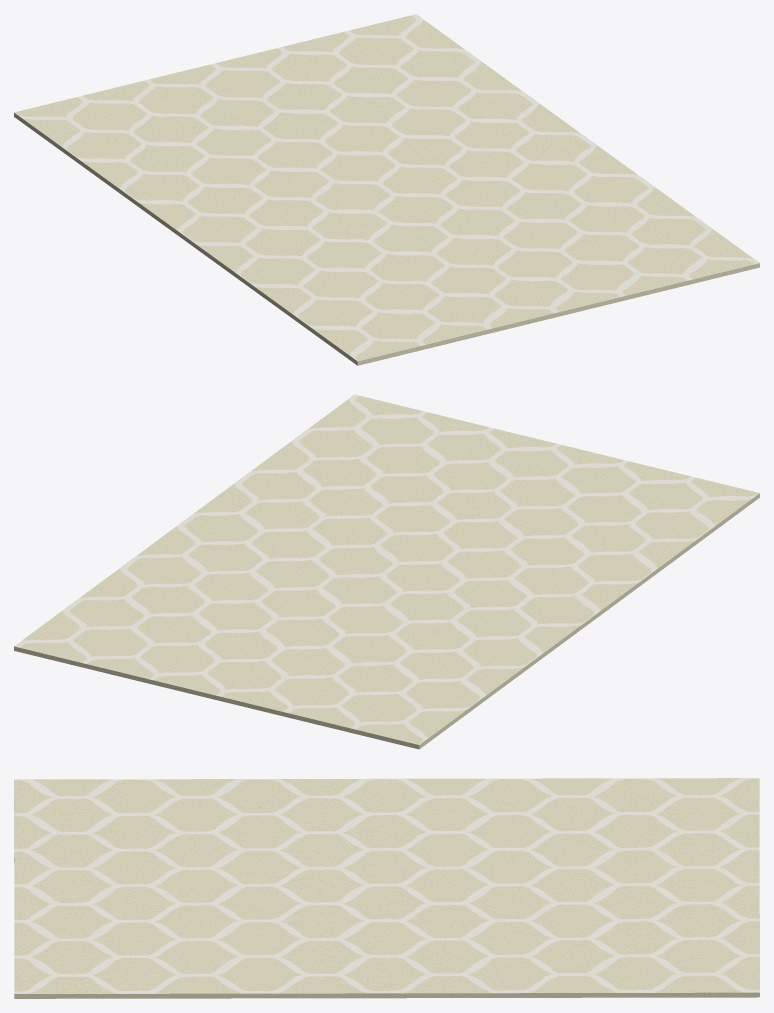
Rendered from frl_apartment_rug_01.glb.
3 renders of one model, top to bottom at view 1: azimuth 30°, elevation 25°; view 2: azimuth 150°, elevation 25°; view 3: azimuth 270°, elevation 25°, orthographic. The views are drawn at different scales.
Parts seen in each view (by area): view 1: frl_apartment_rug_01; view 2: frl_apartment_rug_01; view 3: frl_apartment_rug_01.
Part boxes in pixels (x1=…): frl_apartment_rug_01: x1=14, y1=14, x2=759, y2=365; frl_apartment_rug_01: x1=14, y1=394, x2=759, y2=749; frl_apartment_rug_01: x1=14, y1=778, x2=759, y2=998.
Bounding box in the file's own units: 1.71 × 0.0176 × 2.49.
1 material, 1 textured.
